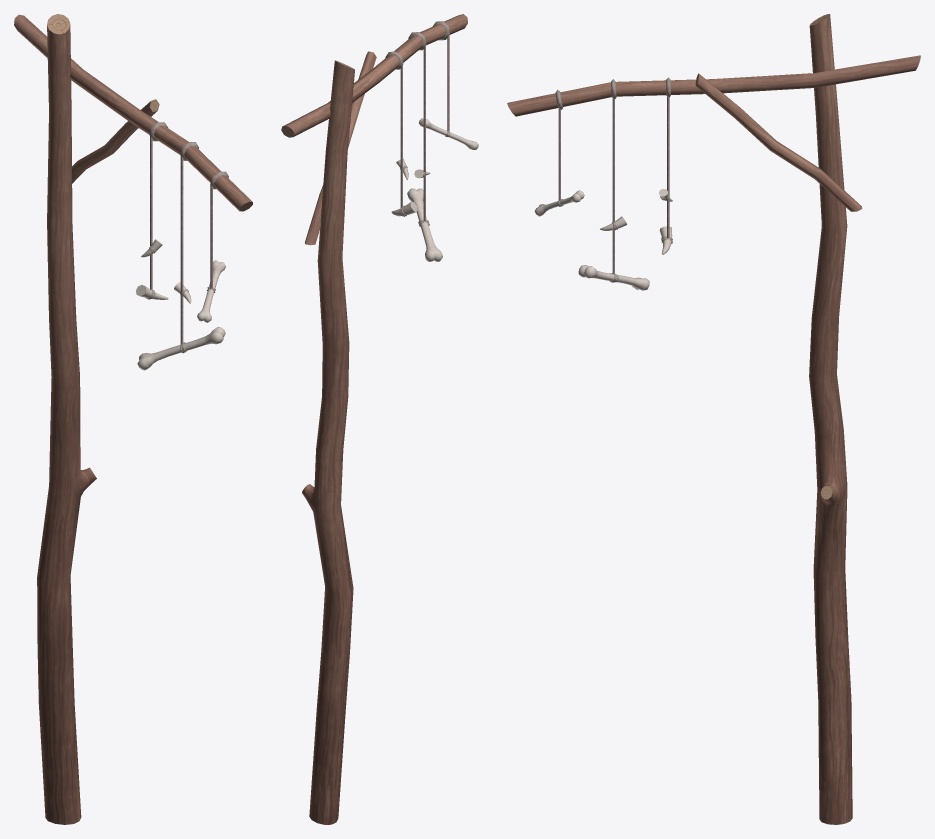
The picture shows the model from 3 angles, left to right: view 1: azimuth 30°, elevation 25°; view 2: azimuth 150°, elevation 25°; view 3: azimuth 270°, elevation 25°; orthographic projection. The views are drawn at different scales.
Parts seen in each view (by area): view 1: submesh_0; view 2: submesh_0; view 3: submesh_0.
Part boxes in pixels (<box>): submesh_0: <box>14,14,252,824</box>; submesh_0: <box>281,14,478,824</box>; submesh_0: <box>507,14,920,824</box>.
Bounding box in the file's own units: 0.2885 × 3.58 × 1.68.
Materials: 1 (1 with a texture image).
